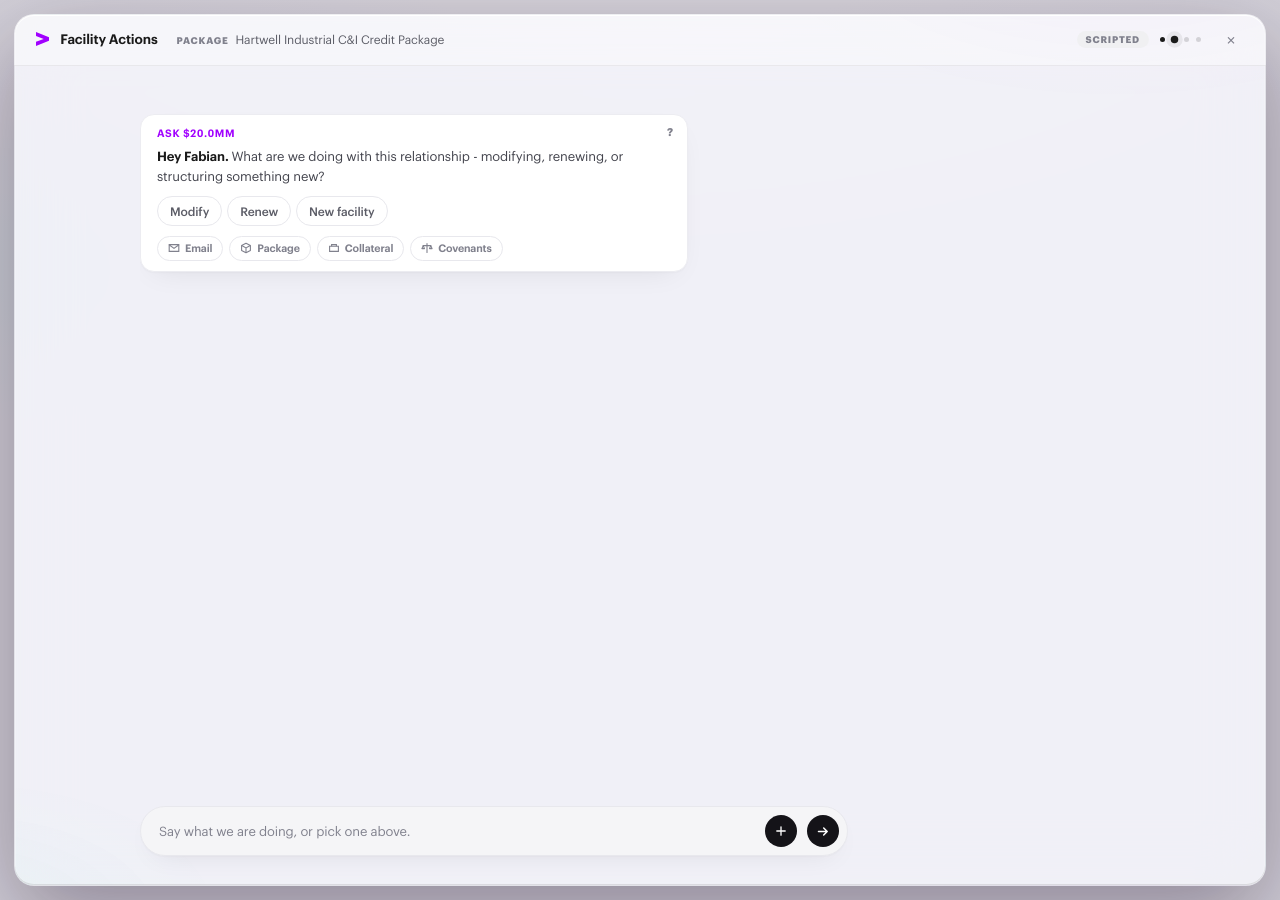
Test: the entry choreography - the tiers arrive one at a time › blends the facilities in a beat later, and the identity leaves in its turn
Step 1. Click the button with class "wk-opt" showing "Modify" → (190, 211), box x1=157 y1=196 x2=222 y2=226
Wait 1180 ms
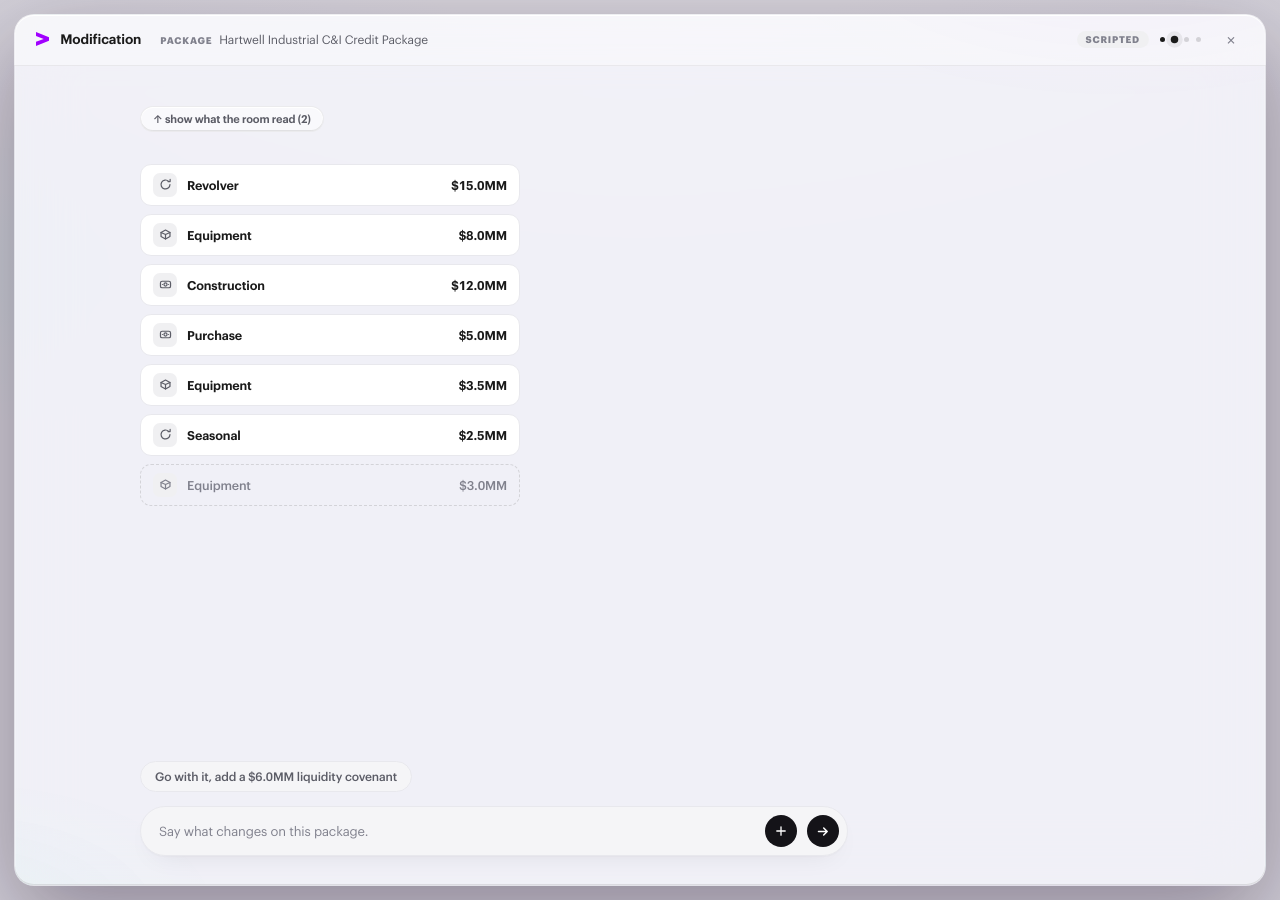
expect the element with class "wk-mchips" is shown: met, box x1=140 y1=164 x2=520 y2=506
